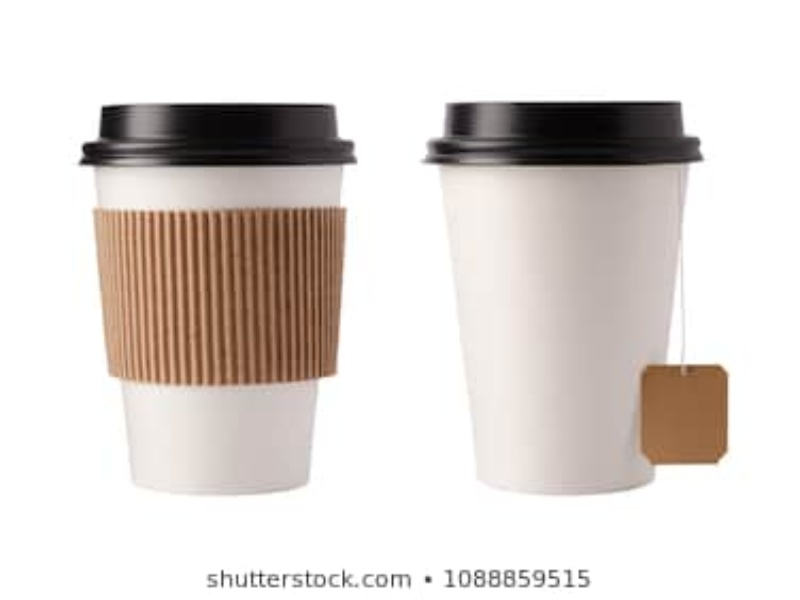coffee-lid: (418, 93, 710, 171), (75, 99, 360, 172)
plastic-cup: (71, 97, 357, 500), (415, 91, 688, 496)
